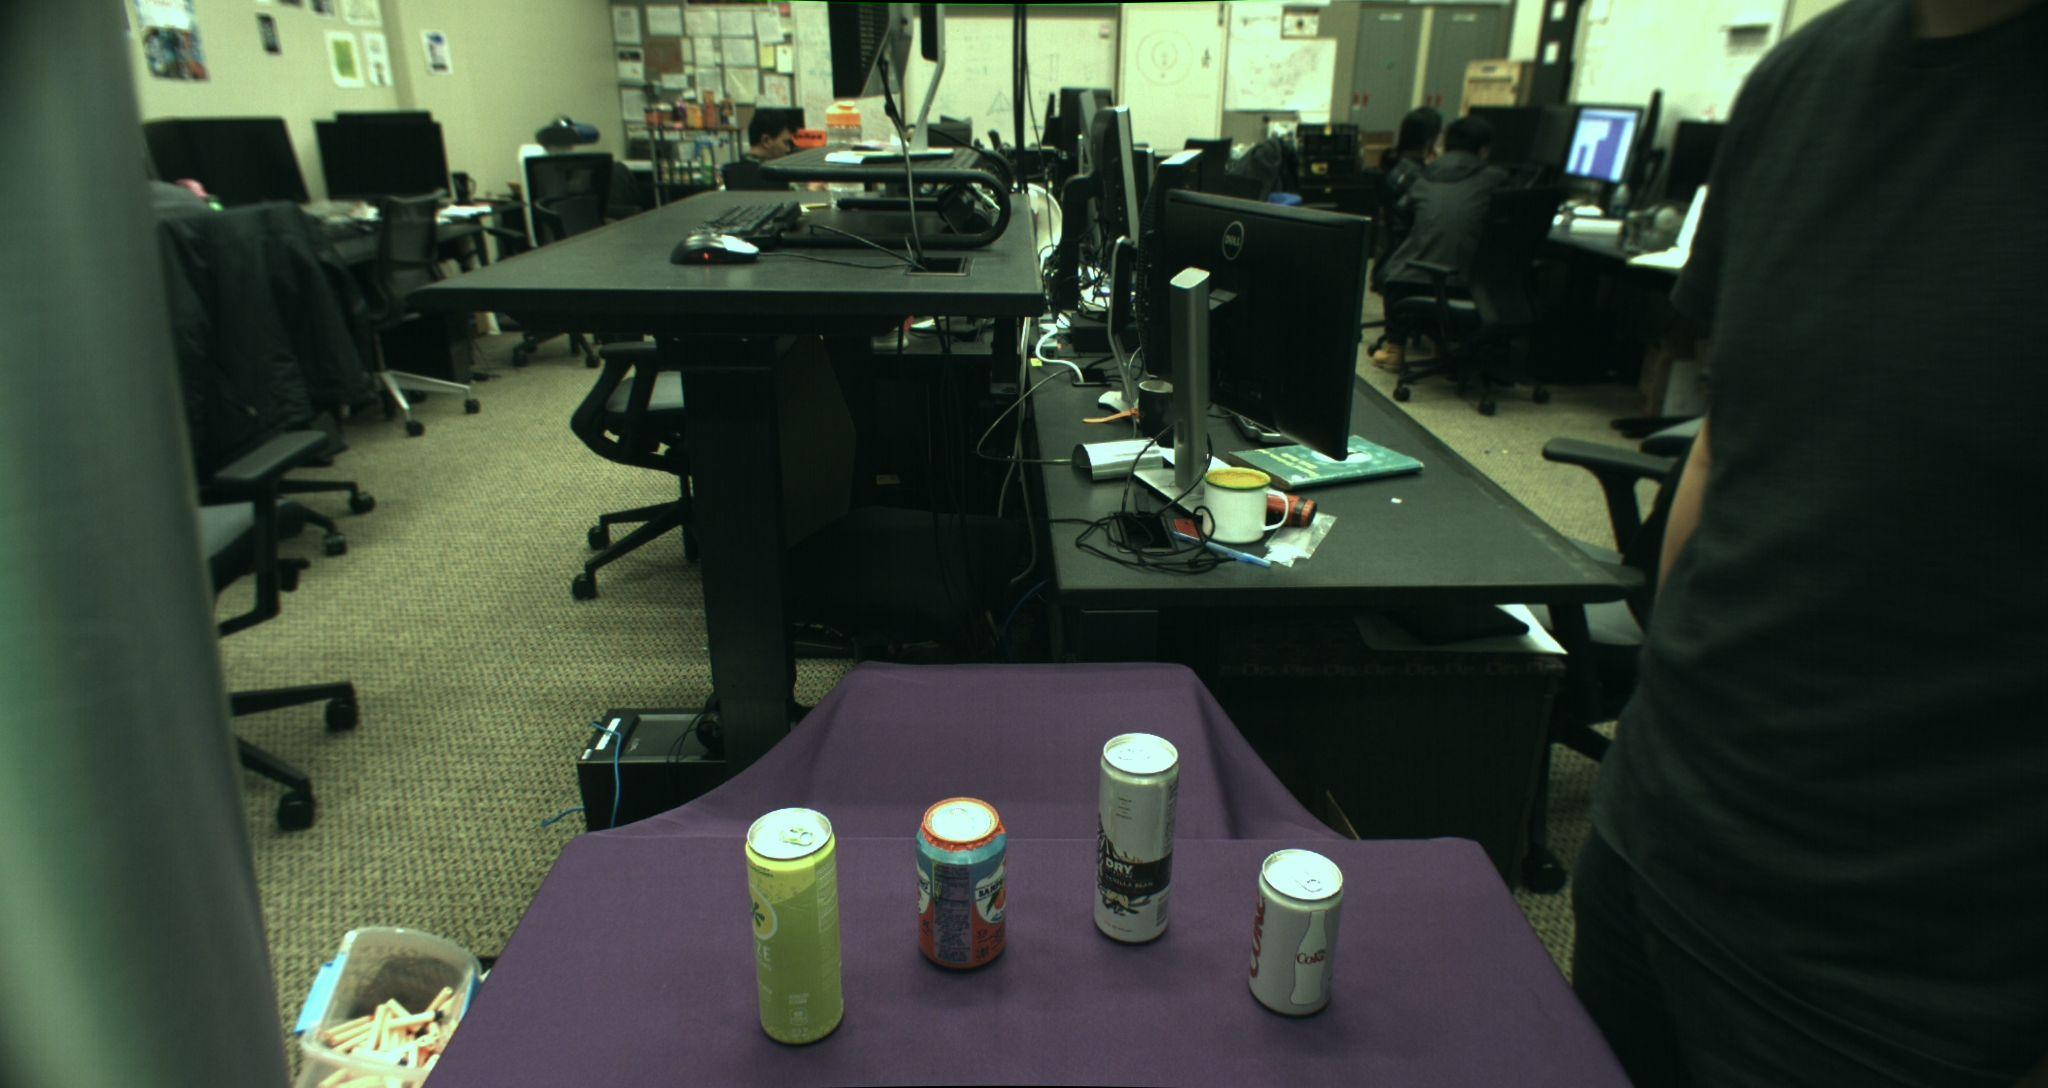can_diet_coke_small: (1249, 847, 1344, 1018)
can_dry_sparkling_vanilla_bean: (1093, 732, 1178, 943)
can_izze_fusions_lemon_lime: (746, 806, 847, 1045)
can_sanpellegrino_blood_orange: (916, 795, 1006, 971)
